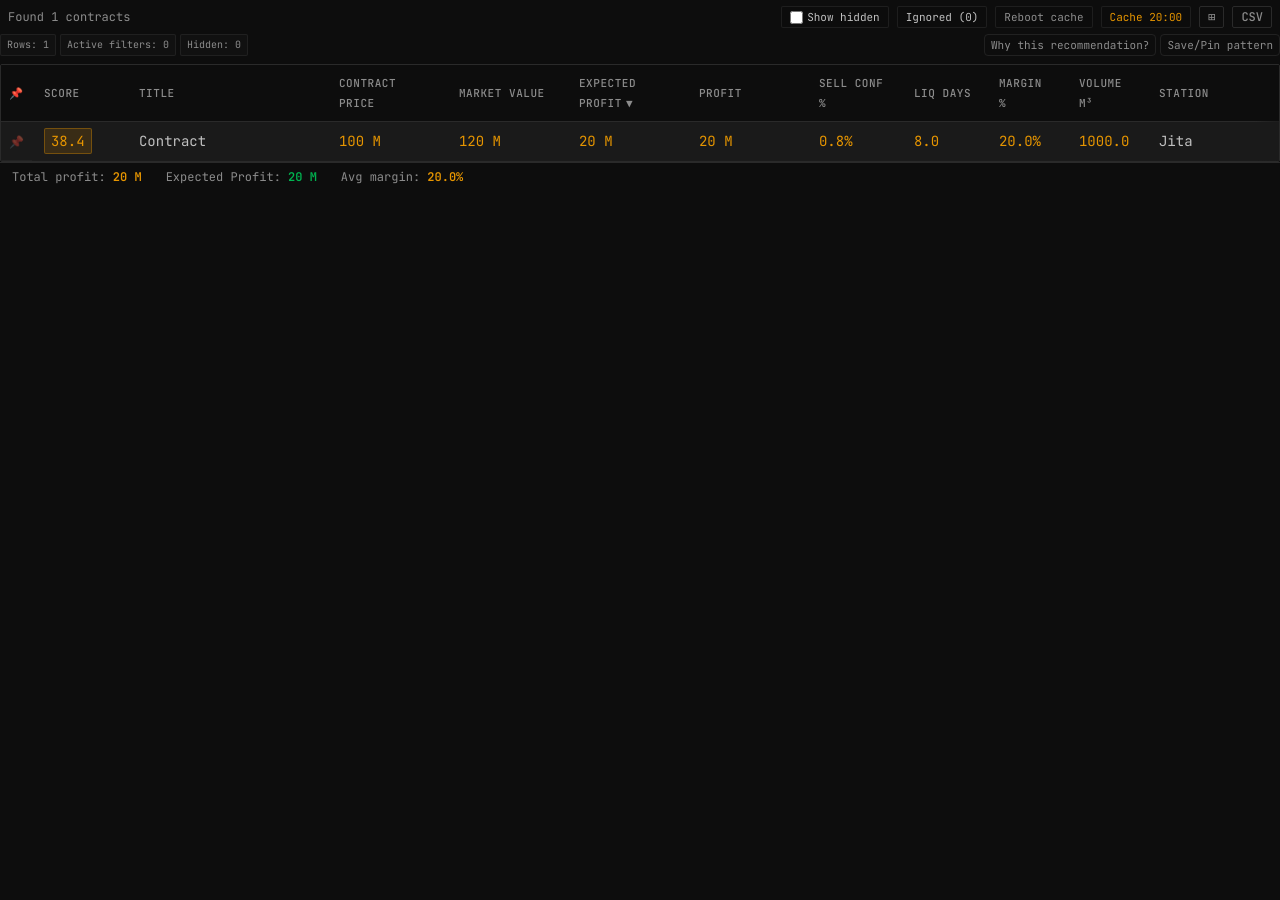
Scenario: ContractResultsTable opportunity score › renders score and shows explanation popover
Expected: the column heading "Score" is shown, left=32, top=65, right=127, bottom=122
Click the button named "Why this score?": click(68, 141) left=44, top=128, right=92, bottom=154
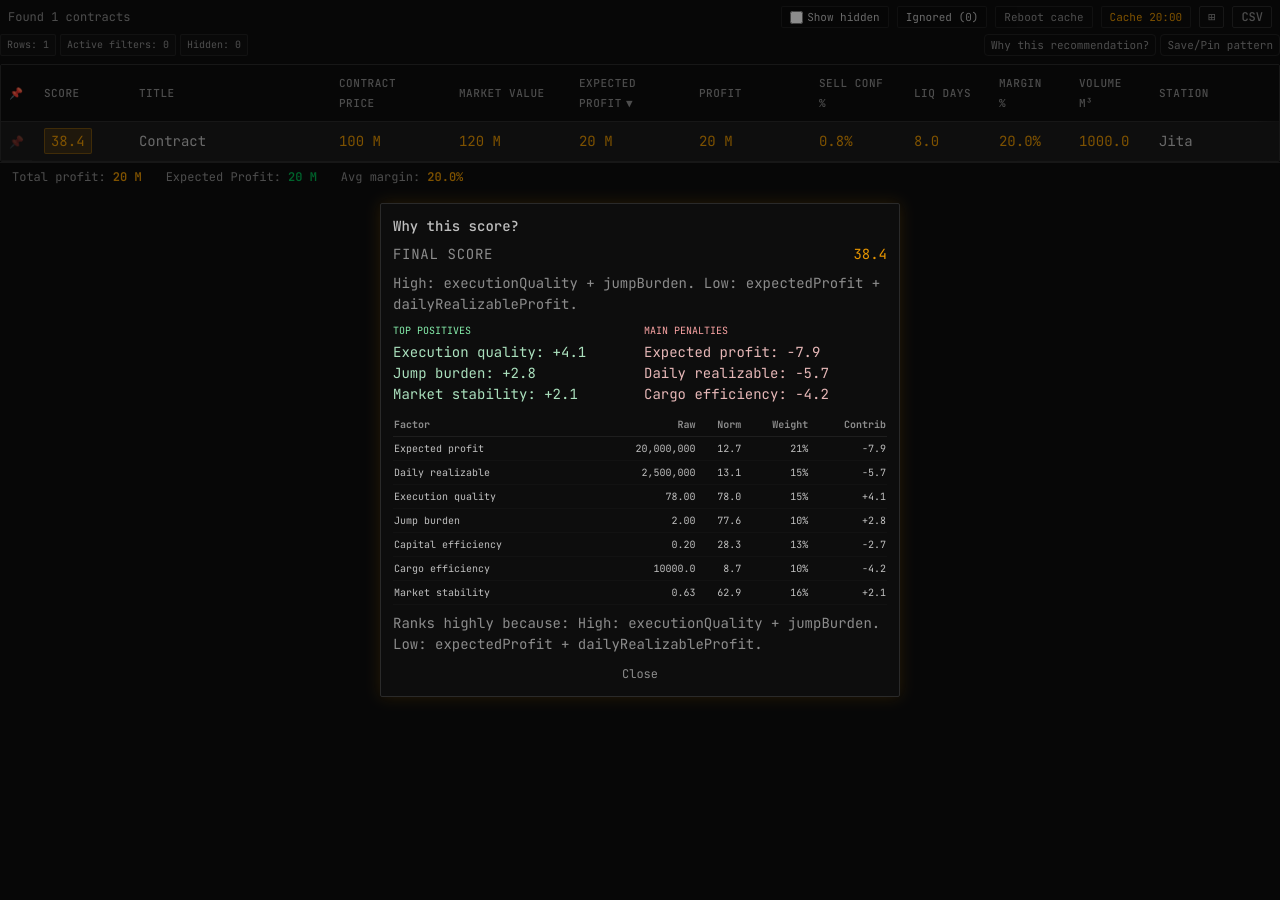
Expected: the text "Final score" is shown, left=393, top=244, right=493, bottom=265
Expected: the column heading "Factor" is shown, left=393, top=413, right=587, bottom=436
